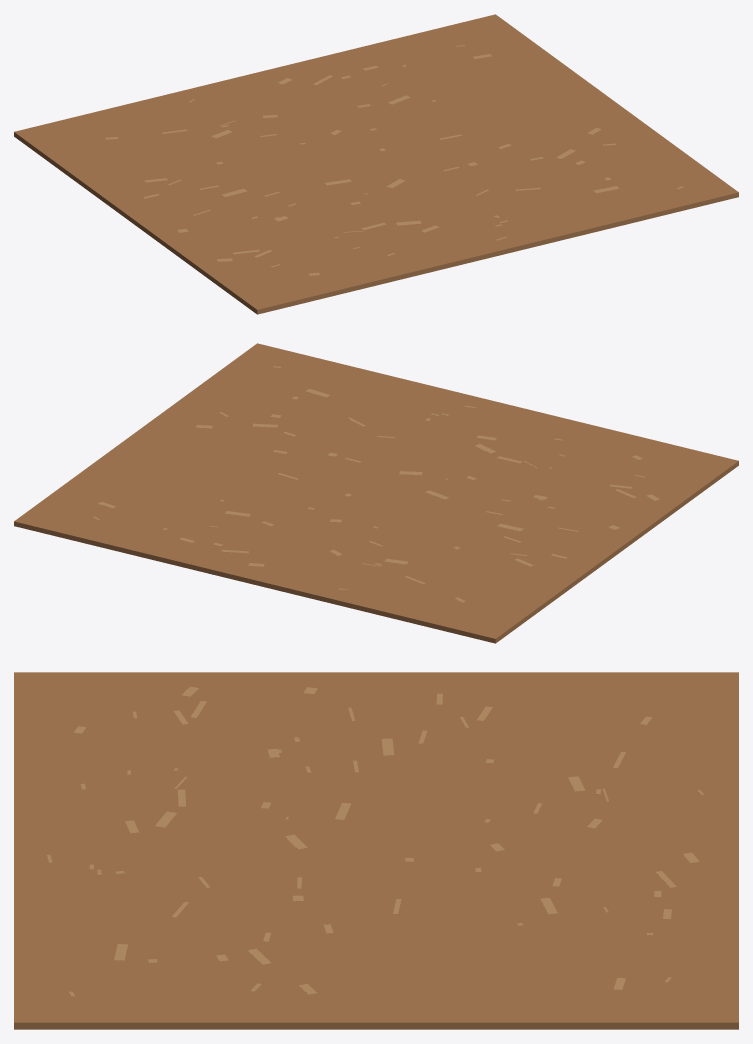
The model's file is mansion.glb.
3 renders of one model, top to bottom at view 1: azimuth 30°, elevation 25°; view 2: azimuth 150°, elevation 25°; view 3: azimuth 270°, elevation 25°, orthographic. The views are drawn at different scales.
Visible parts, largest first — view 1: 01_Dirt_Lot_dirt, 01_Dirt_Lot_dirt_light; view 2: 01_Dirt_Lot_dirt, 01_Dirt_Lot_dirt_light; view 3: 01_Dirt_Lot_dirt, 01_Dirt_Lot_dirt_light.
Part boxes in pixels (x1,y1,x2,y2): 01_Dirt_Lot_dirt: [14, 14, 738, 314]; 01_Dirt_Lot_dirt_light: [105, 45, 683, 275]; 01_Dirt_Lot_dirt: [14, 343, 738, 643]; 01_Dirt_Lot_dirt_light: [93, 366, 659, 602]; 01_Dirt_Lot_dirt: [14, 672, 738, 1029]; 01_Dirt_Lot_dirt_light: [47, 686, 704, 996].
Size of what is drawn, in the model's own units: 48 by 0.4582 by 42.
